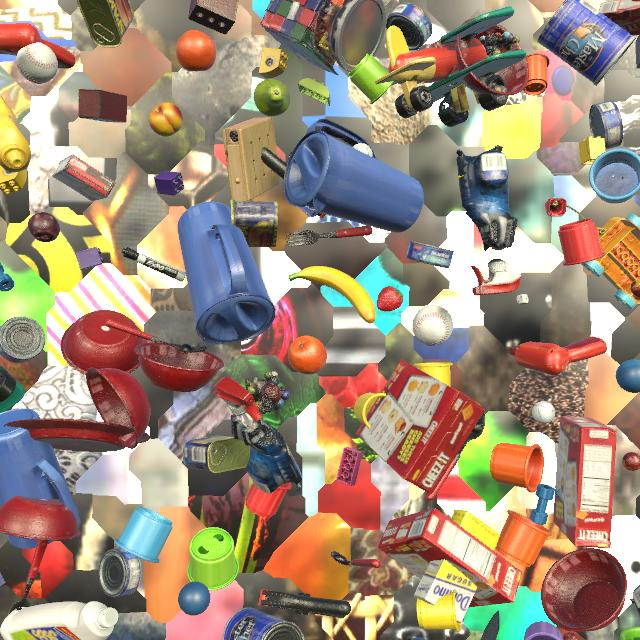ycb_002_master_chef_can: (537, 0, 636, 86), (222, 607, 305, 640)
ycb_003_cracker_box: (355, 359, 485, 494), (378, 508, 522, 607), (553, 416, 617, 548)
ycb_004_sugar_box: (414, 509, 500, 623)
ycb_006_mustard_bottle: (0, 96, 31, 173)
ycb_007_tuna_fish_can: (386, 2, 432, 51), (0, 316, 46, 363), (99, 548, 142, 597), (589, 101, 623, 149), (406, 241, 454, 268)
ycb_008_pudding_box: (52, 154, 116, 201)
ycb_009_gelatin_box: (599, 0, 640, 36)
ycb_010_potted_meat_can: (77, 0, 134, 48), (183, 435, 250, 473), (230, 199, 278, 247)
ycb_011_banana: (288, 266, 376, 323)
ycb_012_strawberry: (377, 286, 404, 311)
ycb_015_peach: (149, 102, 183, 137)
ycb_016_pear: (254, 79, 290, 117)
ycb_017_orange: (176, 30, 216, 72), (288, 335, 327, 375)
ycb_018_plum: (28, 212, 60, 242)
